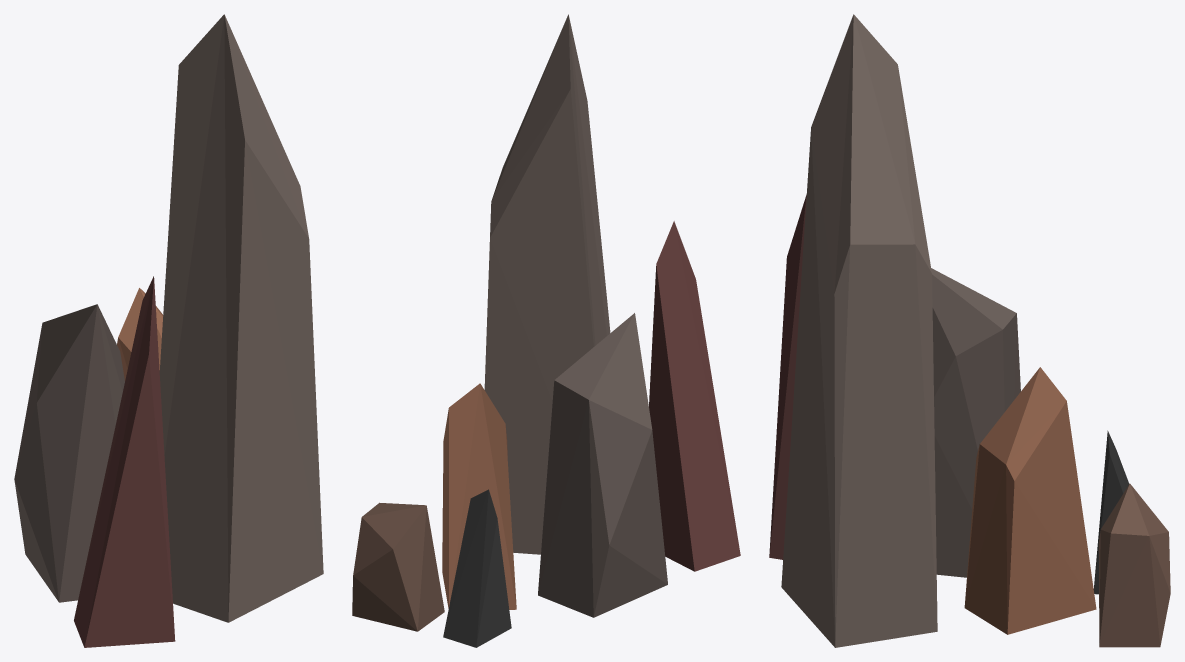
The model's file is RAS_Rock01.fbx.
3 renders of one model, left to right at view 1: azimuth 30°, elevation 25°; view 2: azimuth 150°, elevation 25°; view 3: azimuth 270°, elevation 25°, orthographic. The views are drawn at different scales.
Visible parts, largest first — view 1: RAS_Rock01; view 2: RAS_Rock01; view 3: RAS_Rock01.
Part boxes in pixels (x1=…): RAS_Rock01: x1=14, y1=14, x2=323, y2=647; RAS_Rock01: x1=352, y1=14, x2=740, y2=647; RAS_Rock01: x1=769, y1=14, x2=1170, y2=647.
Size of the model in its own units: 36.83 by 79.37 by 49.03.
1 material, 1 textured.
